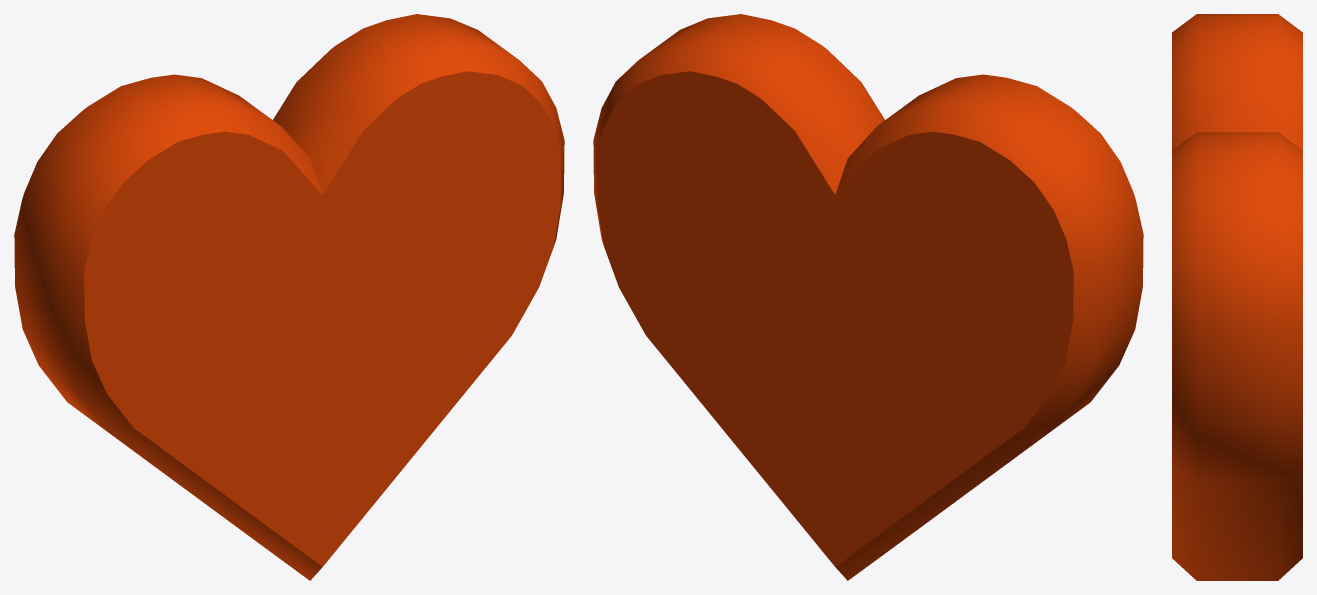
The model's file is Heart_2.fbx.
3 renders of one model, left to right at view 1: azimuth 30°, elevation 25°; view 2: azimuth 150°, elevation 25°; view 3: azimuth 270°, elevation 25°, orthographic.
Visible parts, largest first — view 1: Heart_2; view 2: Heart_2; view 3: Heart_2.
Boxes of the visible parts, x1,y1,x2,y2 form: Heart_2: (14,14,564,580); Heart_2: (593,14,1143,580); Heart_2: (1172,14,1302,580).
Bounding box in the file's own units: 0.2519 × 0.2374 × 0.0571.
